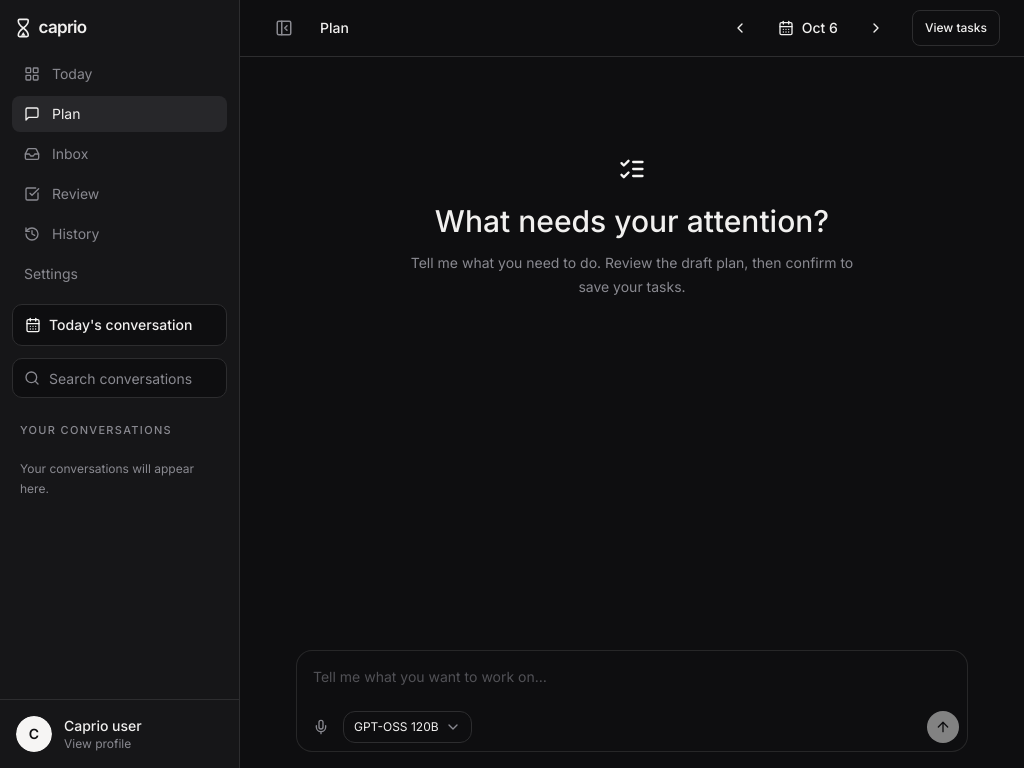
it: Daily planning workflow › keeps a failed message in the thread and reuses its request ID when retried
Step 1. Type "Finish my report" into the text box named "Message about your day" → (632, 683), box [305,659,959,707]
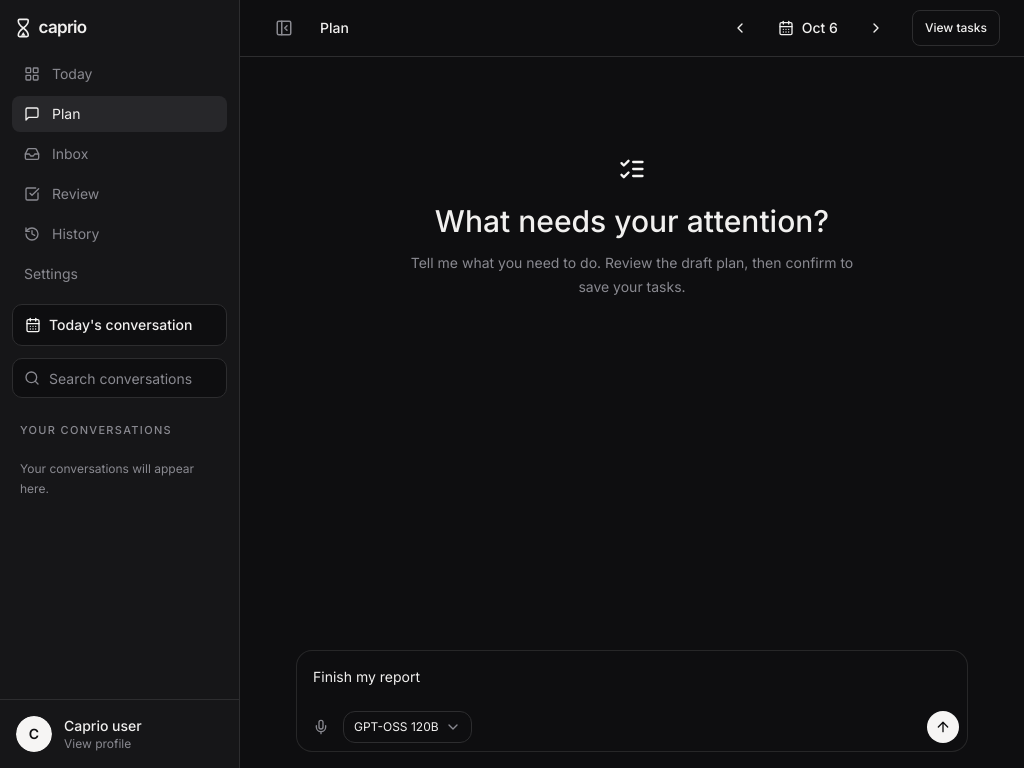
Step 2. Click the button named "Send prompt" → (943, 727), box [927,711,959,743]
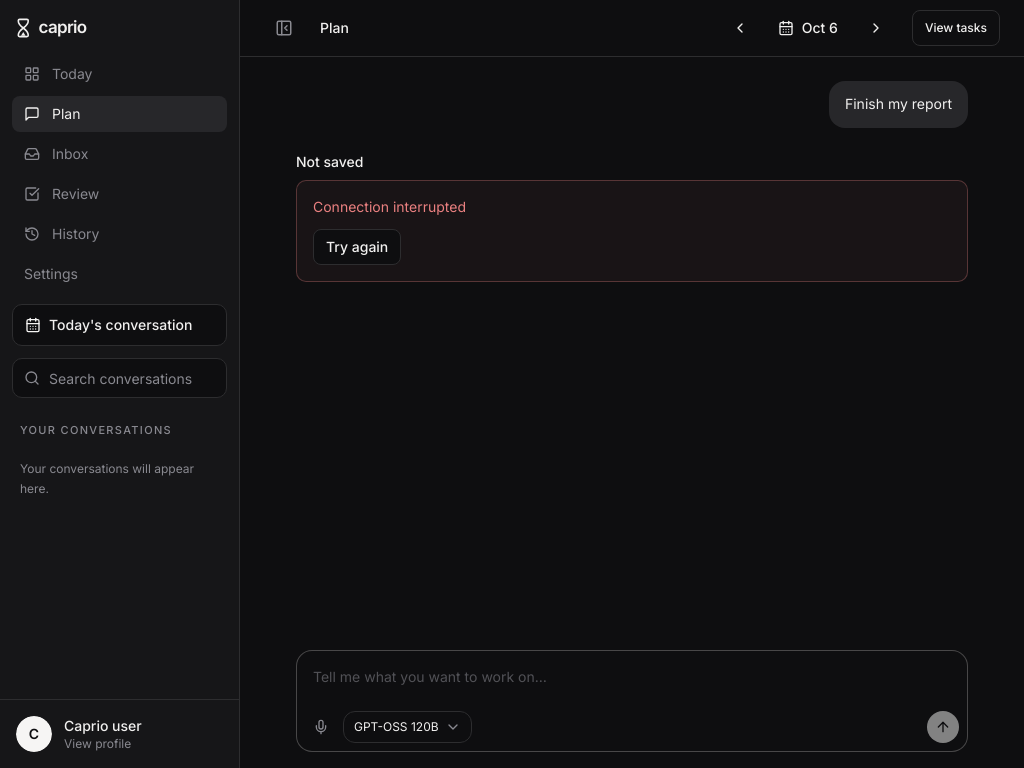
Now the message shows "Connection interrupted", box [313,198,466,215]
Now the text "Finish my report" is shown, box [829,81,968,128]
Now the text box named "Message about your day" is empty, box [305,659,959,707]
Step 3. Click the button "Try again" → (357, 247), box [313,229,401,265]
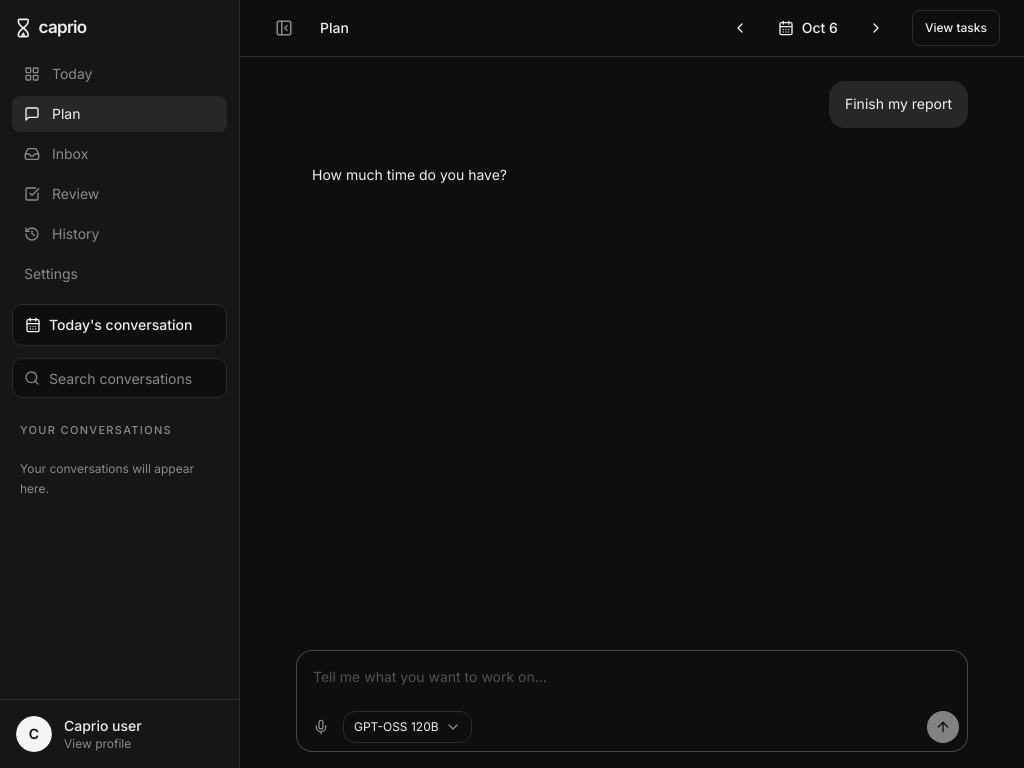
Now the text "Finish my report" is shown, box [829,81,968,128]
Now the text "How much time do you have?" is shown, box [312,166,507,183]
Now the message "Connection interrupted Try again" is gone
